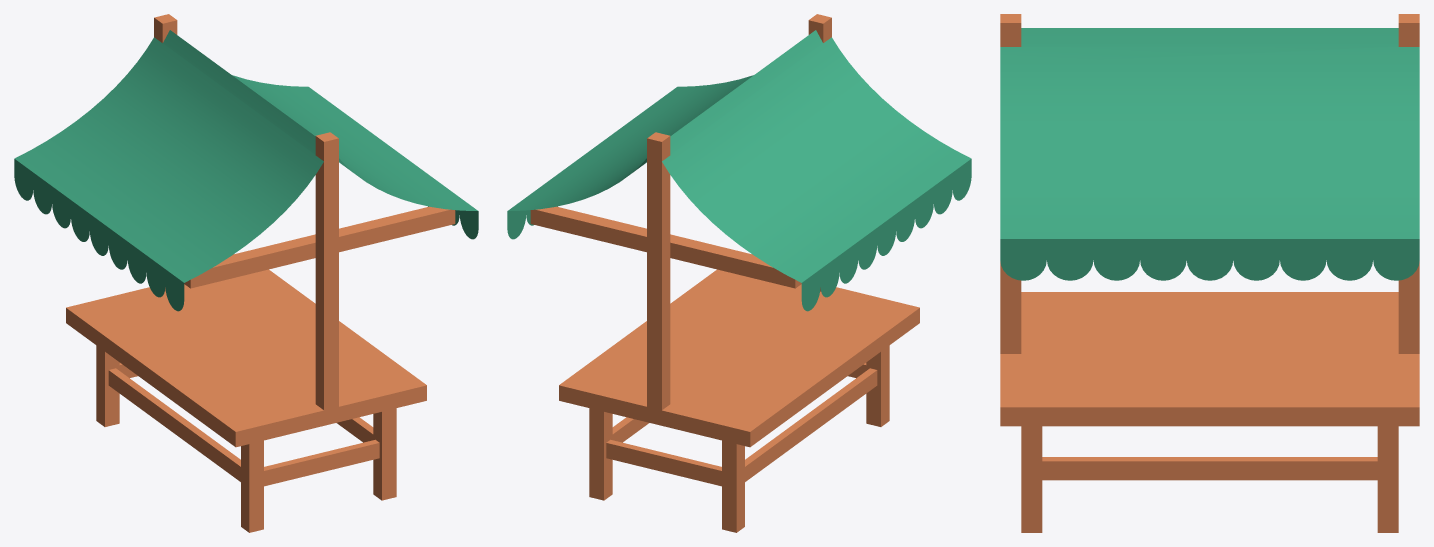
Rendered from stallGreen.dae.
3 views of the same model, side by side, from view 1: azimuth 30°, elevation 25°; view 2: azimuth 150°, elevation 25°; view 3: azimuth 270°, elevation 25° (orthographic). The views are drawn at different scales.
Visible parts, largest first — view 1: stallGreen; view 2: stallGreen; view 3: stallGreen.
Part boxes in pixels (left/top/right/bottom): stallGreen: left=14, top=14, right=478, bottom=532; stallGreen: left=507, top=14, right=971, bottom=532; stallGreen: left=1000, top=14, right=1419, bottom=532.
Size of the model in its own units: 1 by 1.24 by 1.
